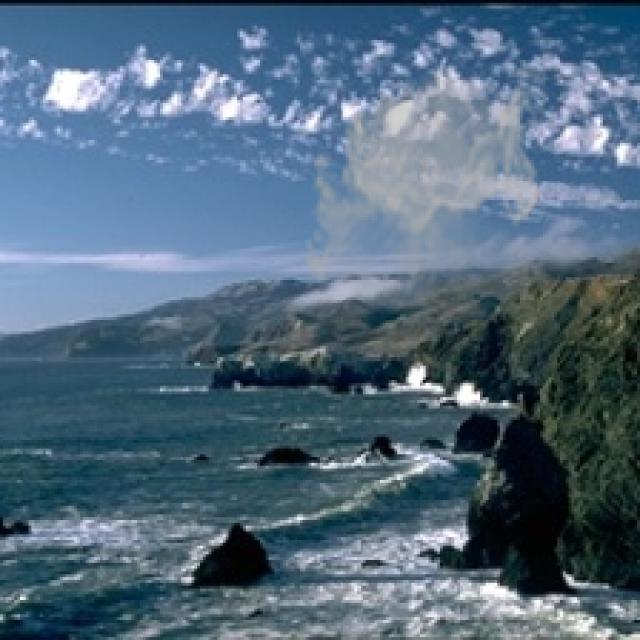smoke: (297, 60, 546, 314)
